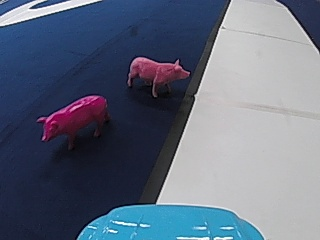pig: (36, 91, 110, 147), (124, 52, 189, 97)
